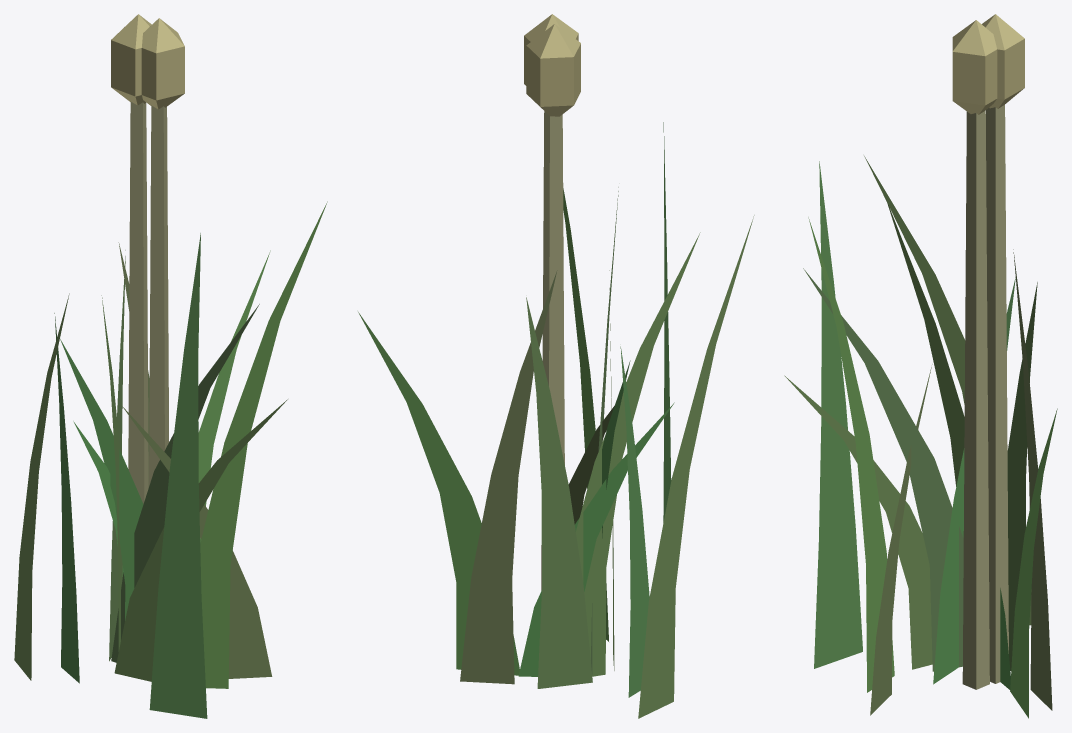
Rendered from grass.glb.
3 renders of one model, left to right at view 1: azimuth 30°, elevation 25°; view 2: azimuth 150°, elevation 25°; view 3: azimuth 270°, elevation 25°, orthographic. The views are drawn at different scales.
Visible parts, largest first — view 1: grass; view 2: grass; view 3: grass.
Part boxes in pixels (bbox=[...]): grass: bbox=[14, 14, 327, 718]; grass: bbox=[358, 14, 754, 718]; grass: bbox=[784, 14, 1057, 718].
Bounding box in the file's own units: 0.3136 × 0.648 × 0.2431.
